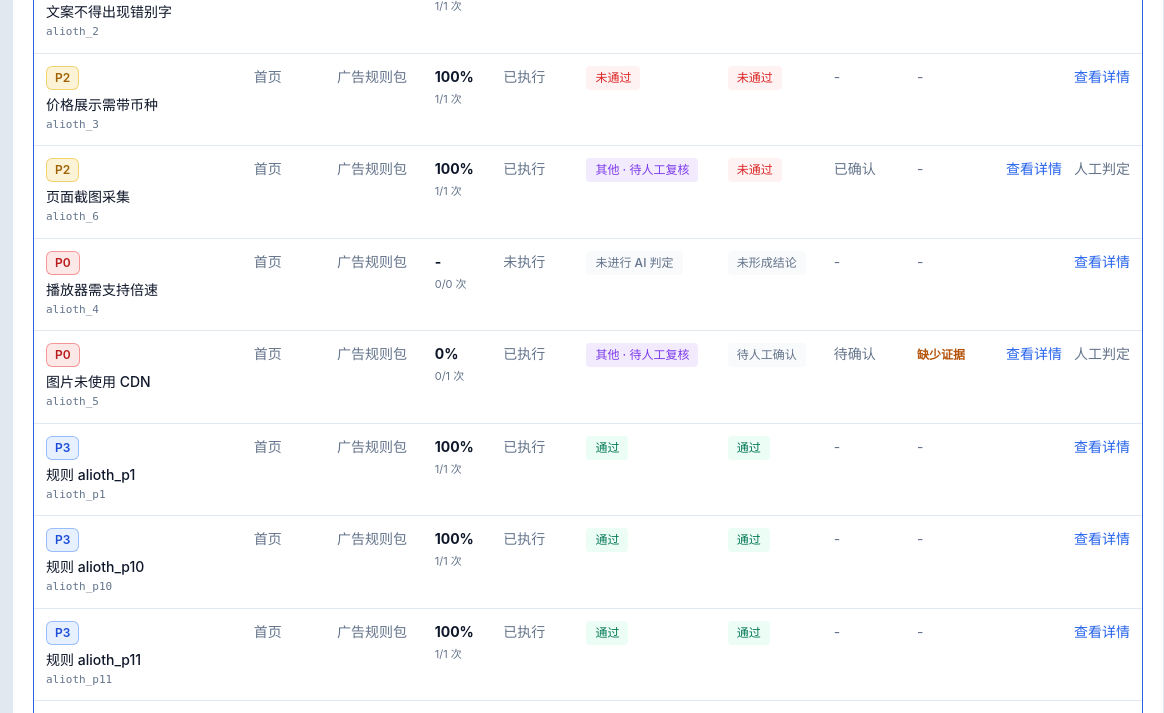
Test: ReportCenterView 报告详情 › H5 证据不足规则展示缺失项与证据输入集
(page scrolled)
Click the button "查看详情" next to "缺少证据": (1034, 354) top-left (1006, 343), bottom-right (1062, 364)
(page scrolled)
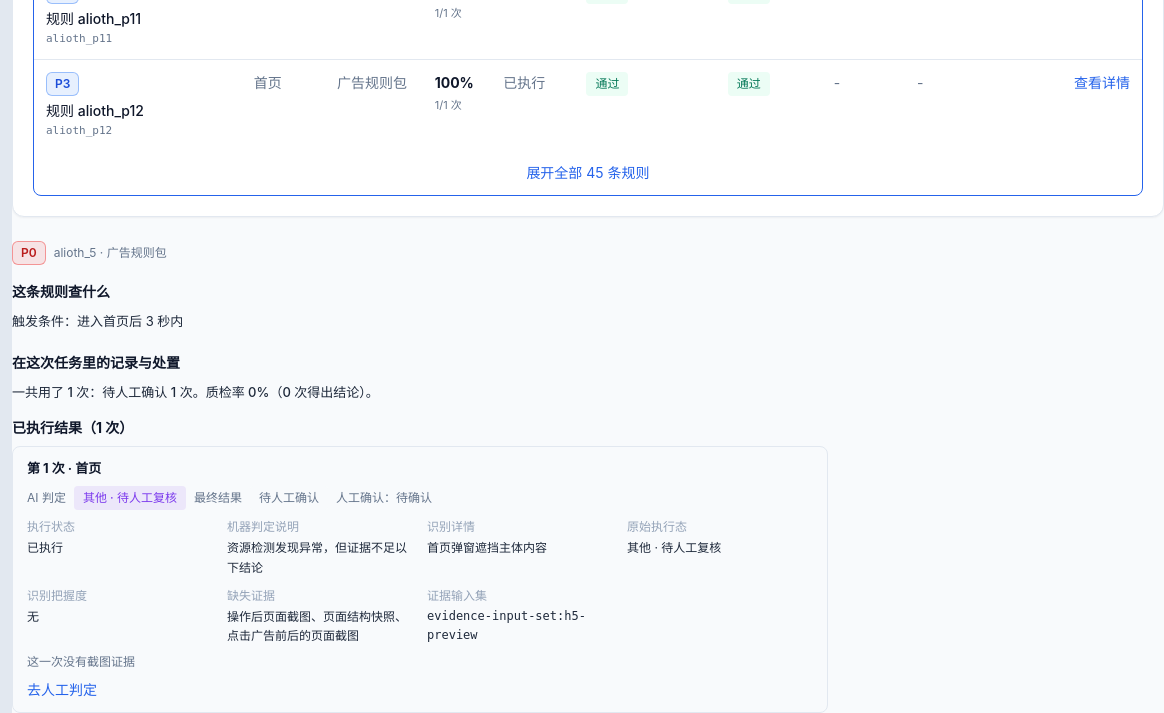
expect the element with test id "rule-usage-dialog" shows "操作后页面截图、页面结构快照、点击广告前后的页面截图": met, box top-left (227, 609), bottom-right (407, 643)
expect the element with test id "rule-usage-dialog" shows "evidence-input-set:h5-preview": met, box top-left (427, 609), bottom-right (586, 642)
